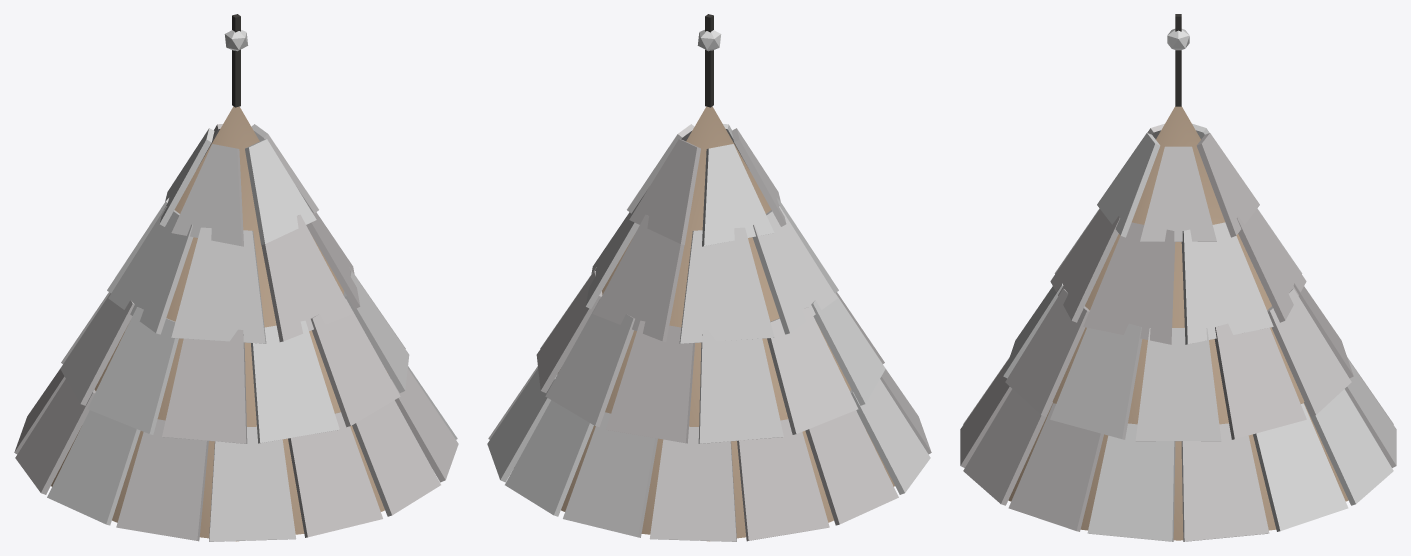
Rendered from Kit_RealKeep_CFL.fbx.
3 views of the same model, side by side, from view 1: azimuth 30°, elevation 25°; view 2: azimuth 150°, elevation 25°; view 3: azimuth 270°, elevation 25° (orthographic).
Parts seen in each view (by area): view 1: Kit_RealKeep_CFL_LOD0; view 2: Kit_RealKeep_CFL_LOD0; view 3: Kit_RealKeep_CFL_LOD0.
Part boxes in pixels (bbox=[...]): Kit_RealKeep_CFL_LOD0: bbox=[14, 14, 458, 541]; Kit_RealKeep_CFL_LOD0: bbox=[487, 14, 931, 541]; Kit_RealKeep_CFL_LOD0: bbox=[960, 14, 1396, 541].
Size of what is drawn, in the model's own units: 2.02 by 2.2 by 1.98.
